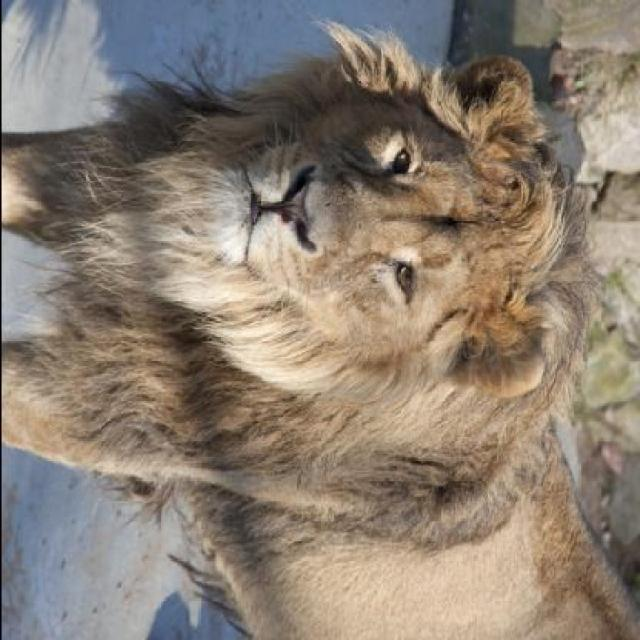Lion: (2, 20, 629, 635)
